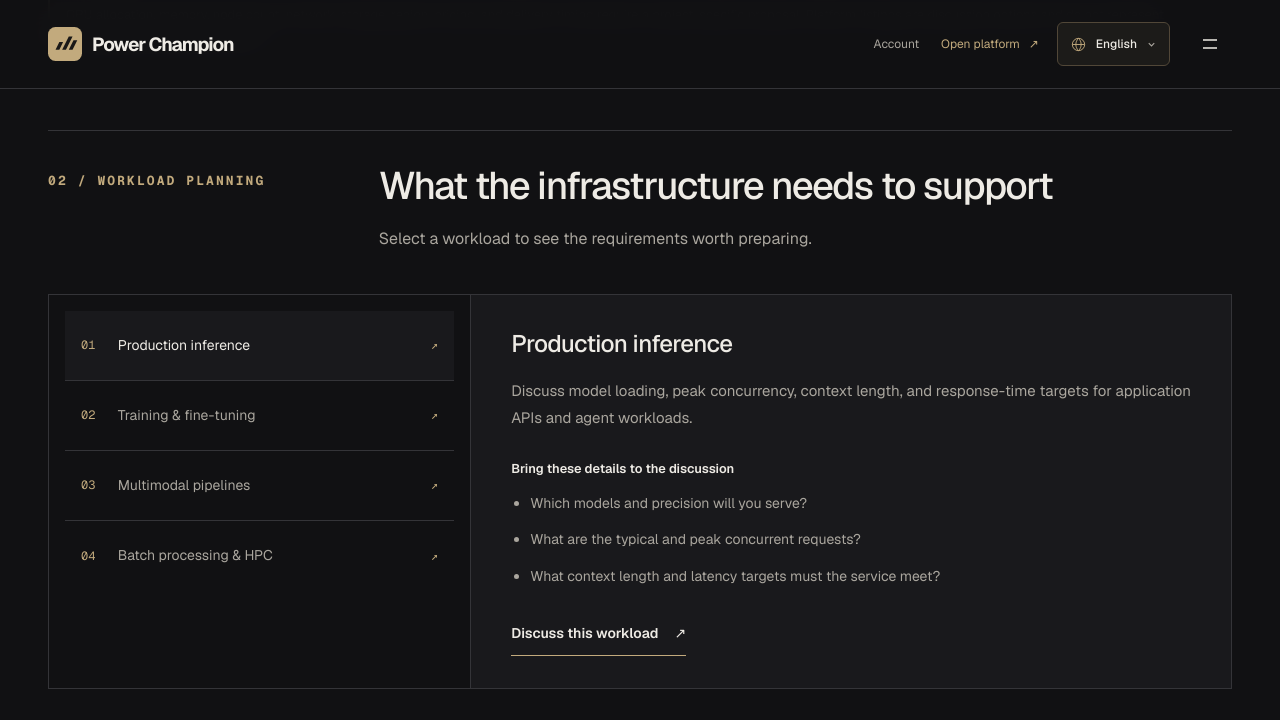
Test case: InfrastructureContent › changes planning questions and links to the corresponding translated infrastructure page
Later steps or results of the test are not shown.
(page scrolled)
Check: the list item "Which models and precision will you serve?" is shown, box [530,494,807,512]
Click the button "02 Training & fine-tuning ↗" at {"x": 187, "y": 415}, box [65,381,454,451]
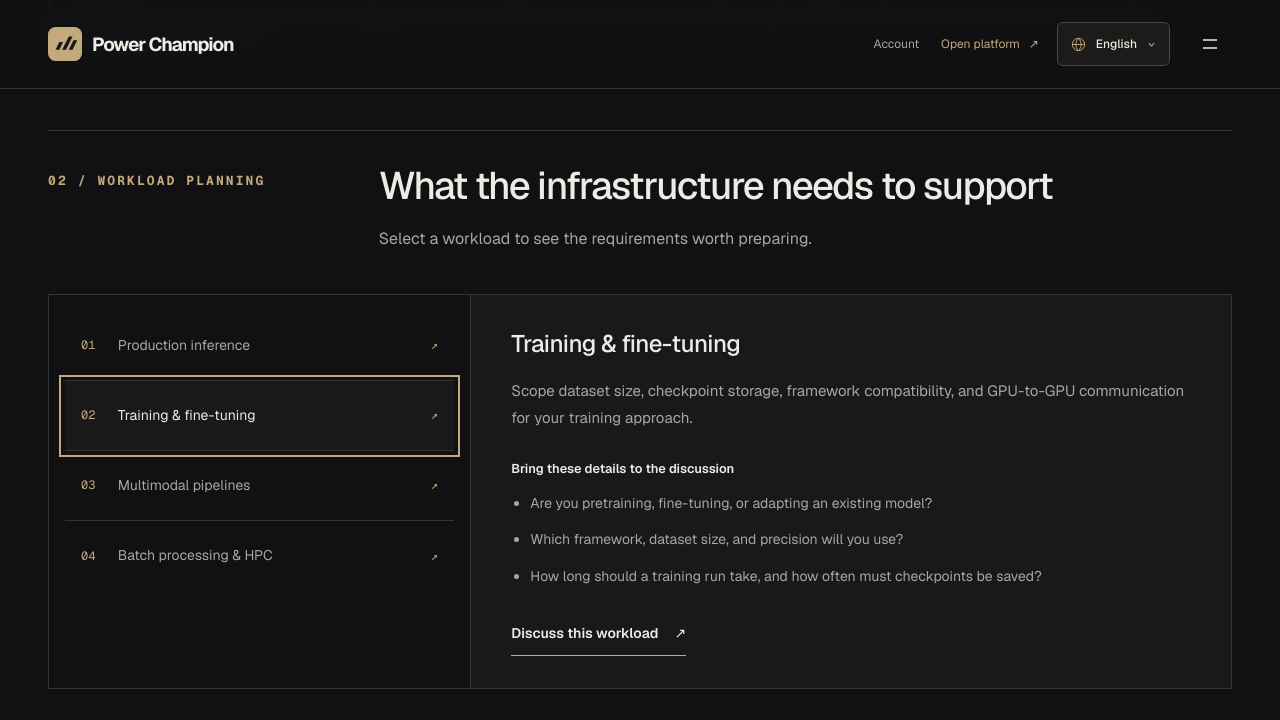
Check: the list item "Which models and precision will you serve?" is gone
Check: the list item "Are you pretraining, fine-tuning, or adapting an existing model?" is shown, box [530,494,932,512]
Click the button with aria-label "Language: English" at {"x": 1113, "y": 44}, box [1057,22,1170,66]
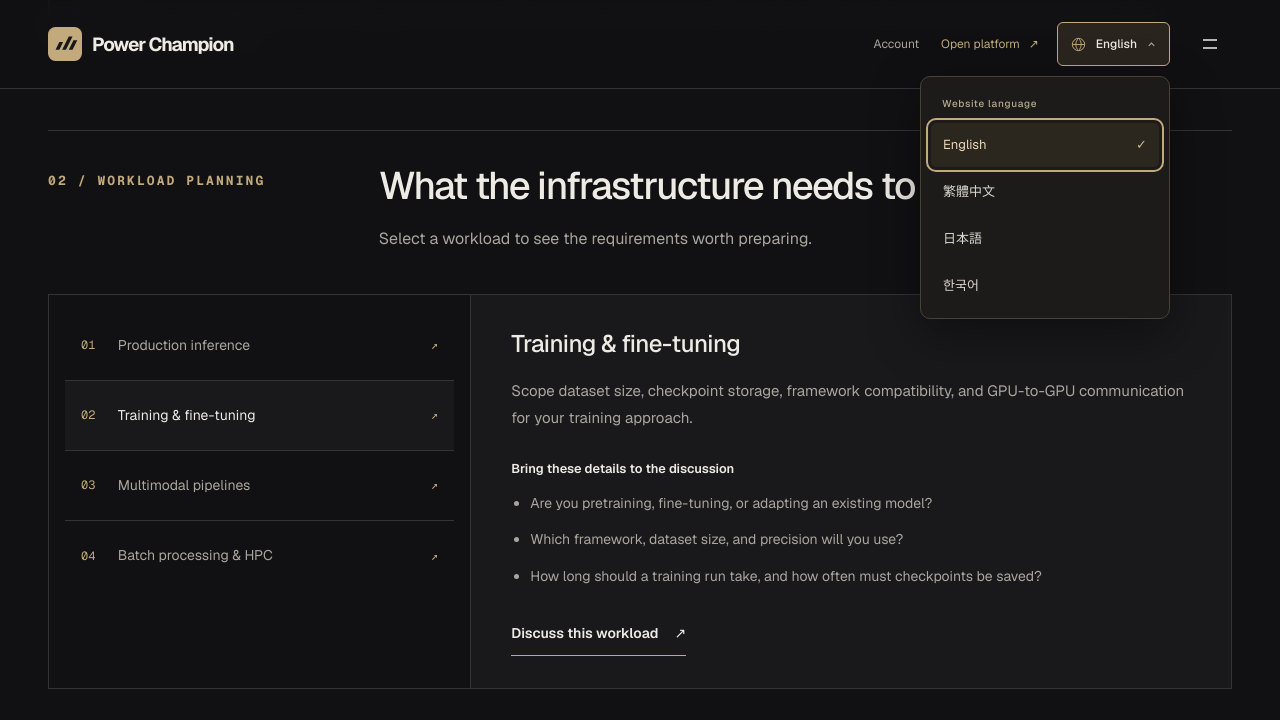
Check: the button "02 Training & fine-tuning ↗" is pressed, box [65,381,454,451]
